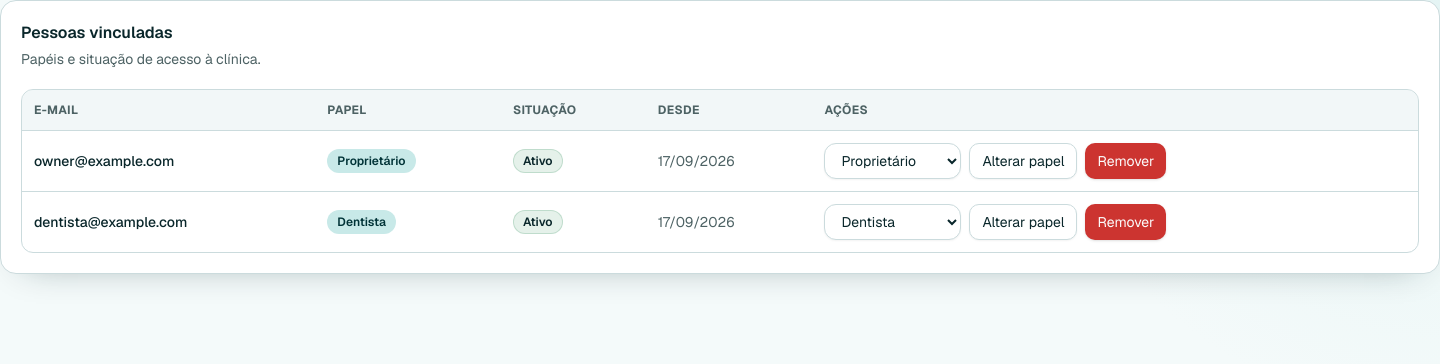
MembersTable › shows the permission message on 403
Select "Assistente" in the dropdown named "Novo papel de dentista@example.com": (893, 222) [824, 204, 961, 240]
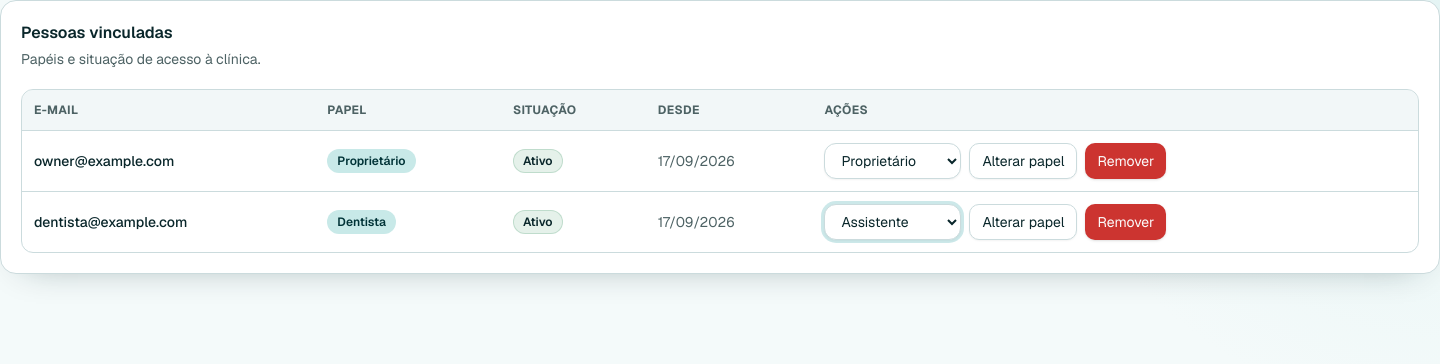
Click the button with aria-label "Alterar papel de dentista@example.com": (1023, 222) [969, 204, 1078, 240]
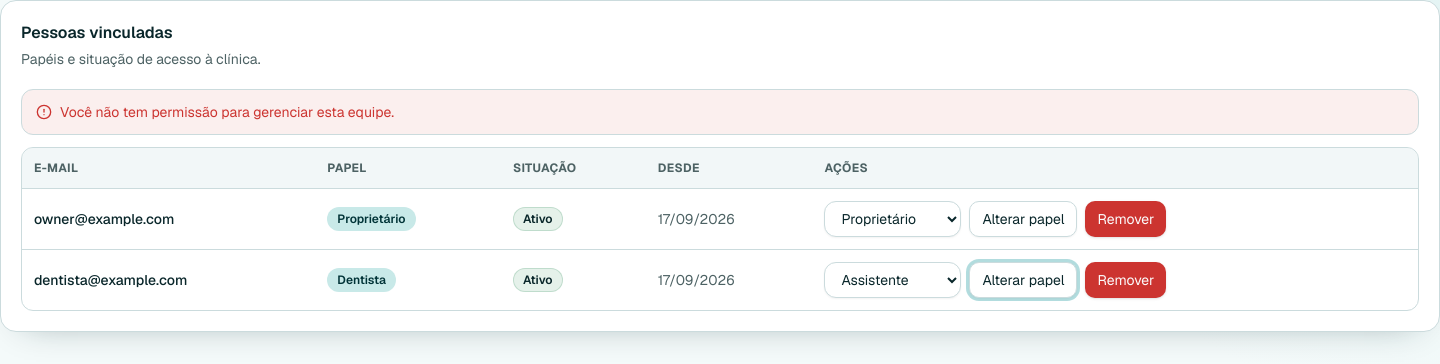
Check: the message reads "Você não tem permissão para gerenciar esta equipe.", box [60, 103, 394, 121]
